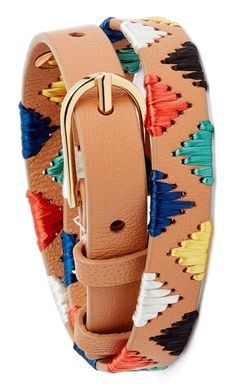cuero: (17, 16, 214, 373)
